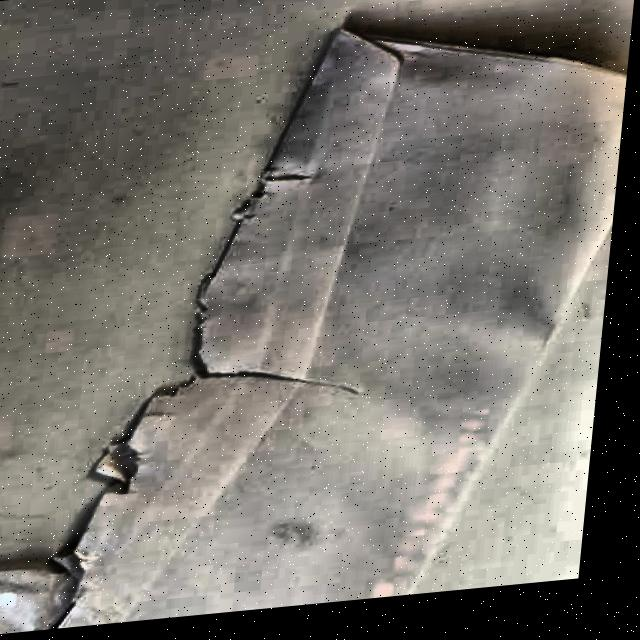paper: (0, 0, 634, 638)
